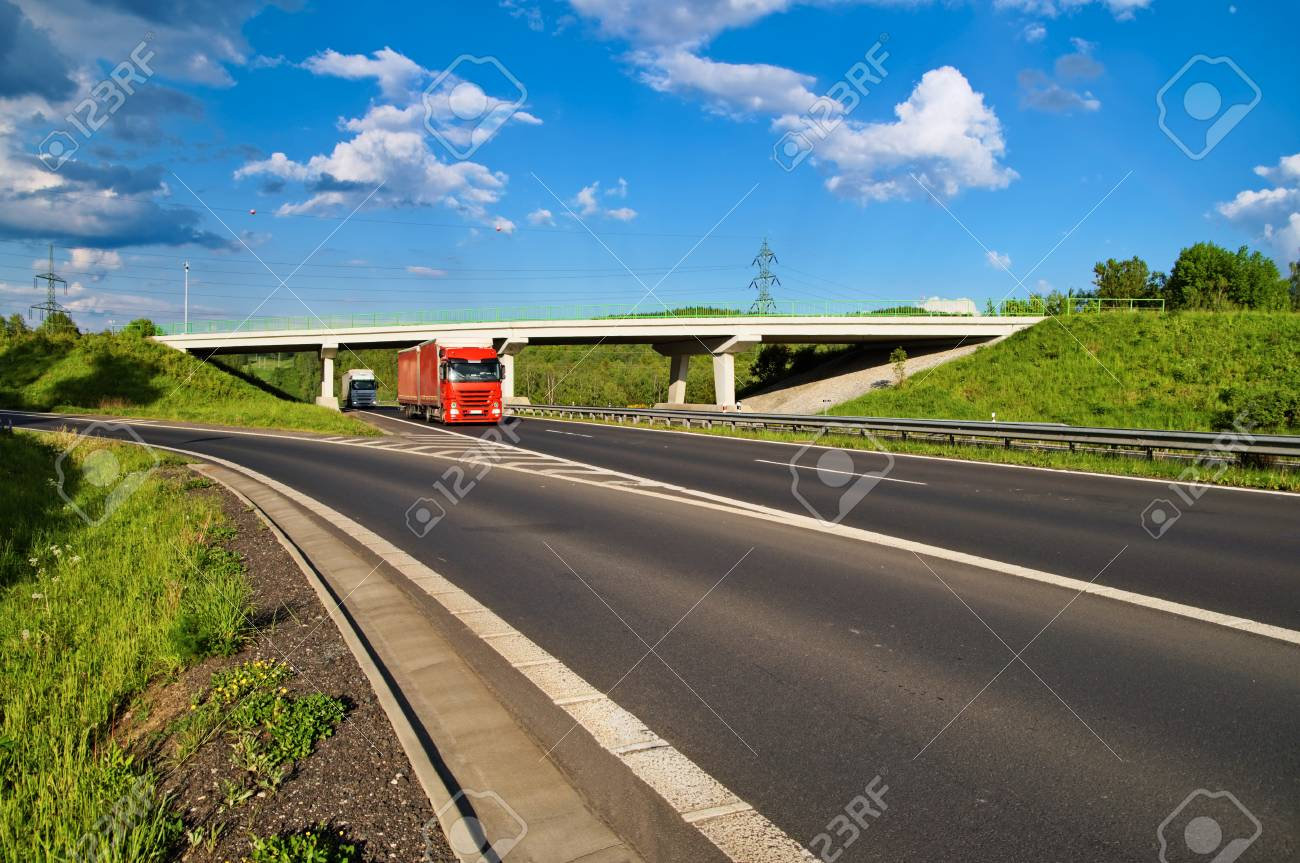bridge: (152, 315, 1043, 339)
